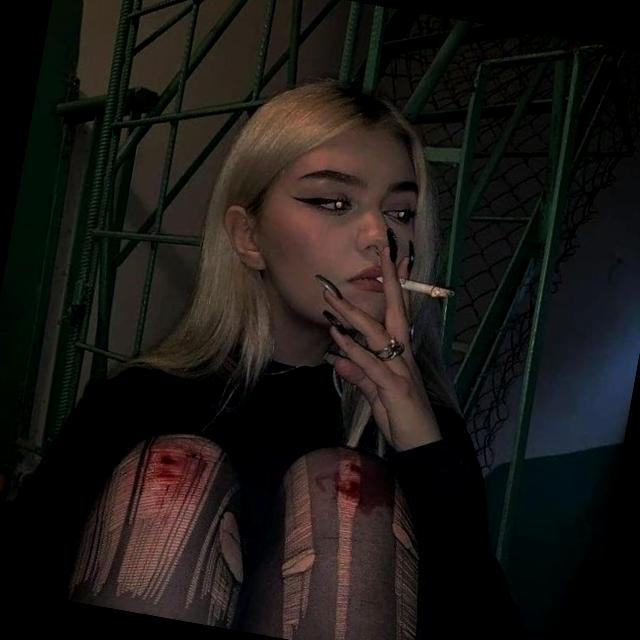smoke: (356, 254, 476, 309)
